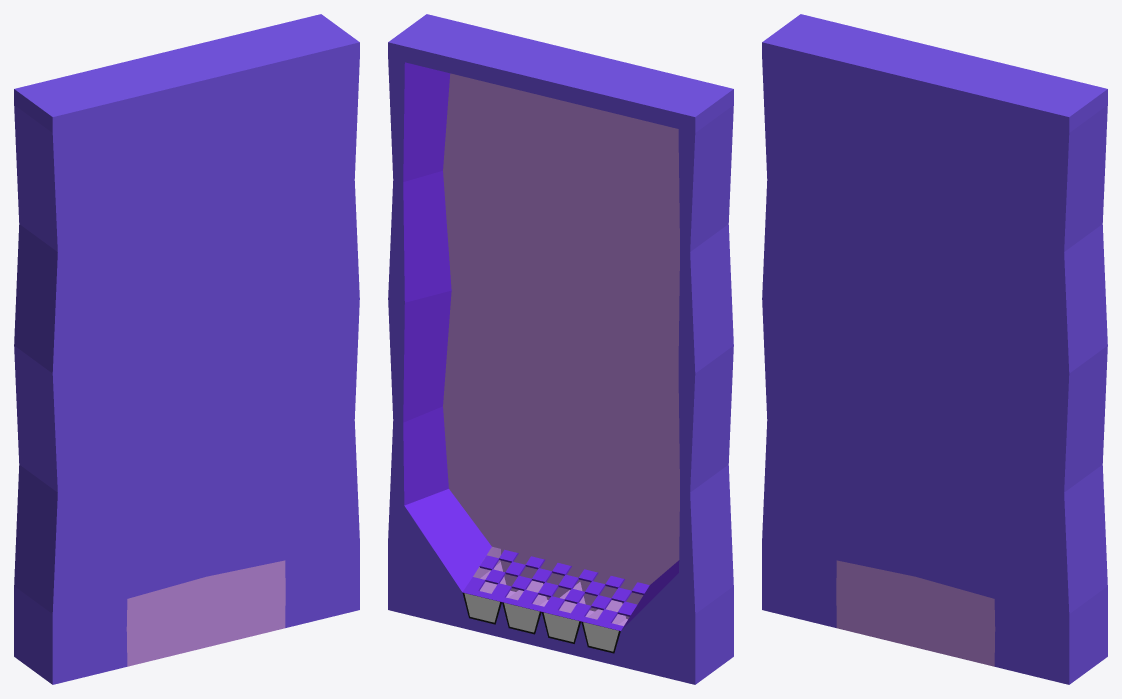
The model's file is last_bg_purple.fbx.
The picture shows the model from 3 angles, left to right: view 1: azimuth 30°, elevation 25°; view 2: azimuth 150°, elevation 25°; view 3: azimuth 330°, elevation 25°; orthographic projection.
Visible parts, largest first — view 1: background_purple; view 2: background_purple, grille.purple; view 3: background_purple.
Part boxes in pixels (x1,y1,x2,y2): background_purple: (14,14,359,684); background_purple: (388,14,733,684); grille.purple: (462,549,649,631); background_purple: (762,14,1107,684).
Size of the model in its own units: 9.06 by 16 by 1.97.
